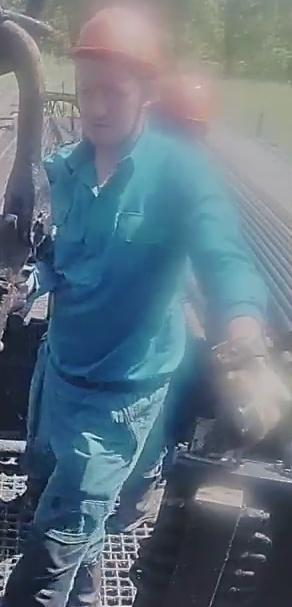gloves: (203, 330, 292, 449)
helmet: (62, 4, 169, 74)
vest: (45, 129, 232, 396)
